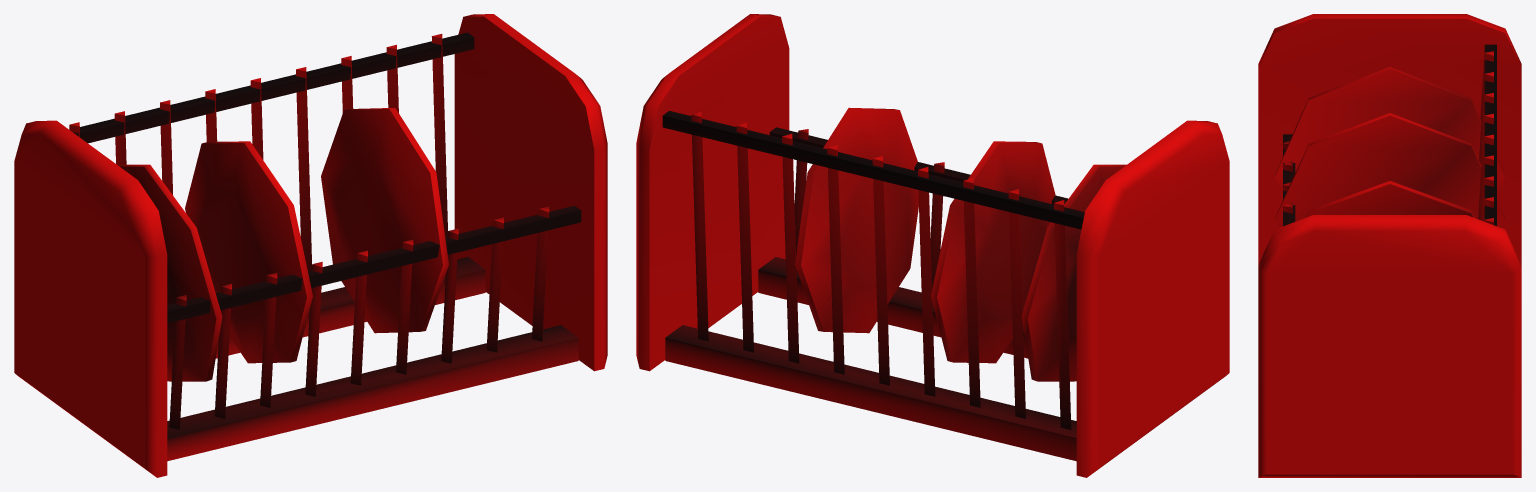
File: CI_Kitchen_DishRack.glb
3 renders of one model, left to right at view 1: azimuth 30°, elevation 25°; view 2: azimuth 150°, elevation 25°; view 3: azimuth 270°, elevation 25°, orthographic. The views are drawn at different scales.
Visible parts, largest first — view 1: CI_Kitchen_DishRack; view 2: CI_Kitchen_DishRack; view 3: CI_Kitchen_DishRack.
Part boxes in pixels (<box>): CI_Kitchen_DishRack: <box>14,14,607,477</box>; CI_Kitchen_DishRack: <box>636,14,1229,477</box>; CI_Kitchen_DishRack: <box>1258,14,1521,477</box>.
Size of the model in its own units: 0.46 by 0.26 by 0.24.
